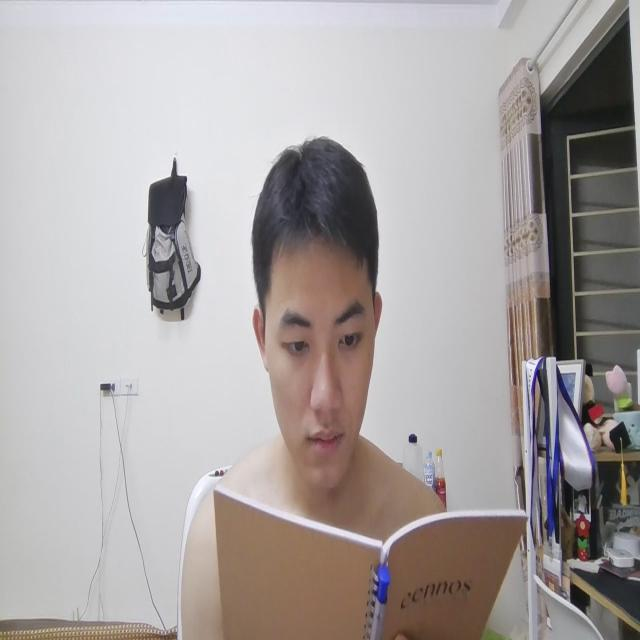book: (198, 478, 530, 637)
student: (235, 135, 392, 489)
